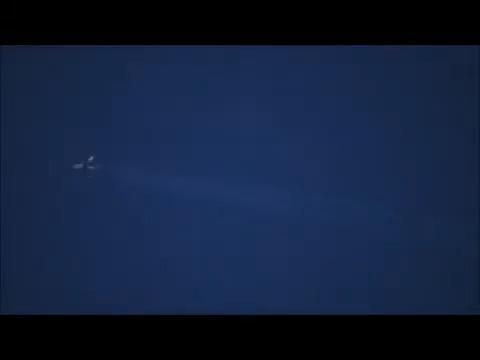Plane: (56, 147, 117, 180)
